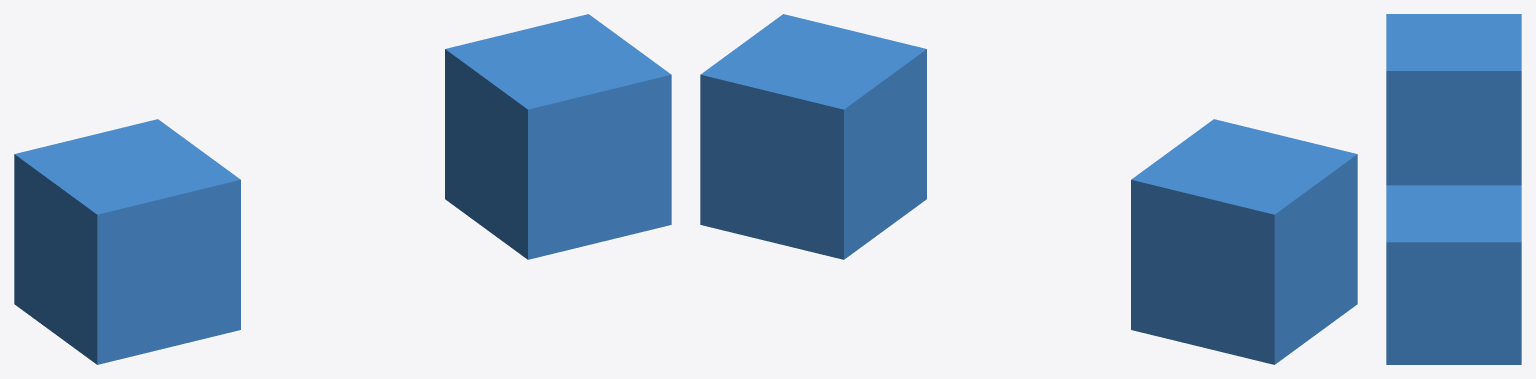
The model's file is material_shared_by_models.fbx.
3 renders of one model, left to right at view 1: azimuth 30°, elevation 25°; view 2: azimuth 150°, elevation 25°; view 3: azimuth 270°, elevation 25°, orthographic. The views are drawn at different scales.
Parts seen in each view (by area): view 1: A, B; view 2: A, B; view 3: B, A.
Part boxes in pixels (x1=…): A: x1=14, y1=119, x2=240, y2=364; B: x1=445, y1=14, x2=671, y2=259; A: x1=1131, y1=119, x2=1357, y2=364; B: x1=700, y1=14, x2=926, y2=259; B: x1=1386, y1=185, x2=1521, y2=364; A: x1=1386, y1=14, x2=1521, y2=185.
Size of the model in its own units: 400 by 100 by 100.
